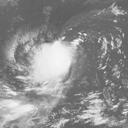cyclone: (22, 38, 81, 98)
